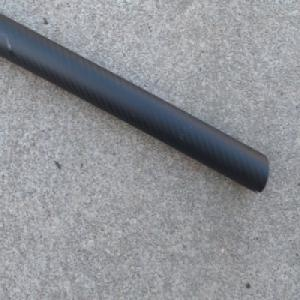LuggagePart: (0, 13, 270, 194)
